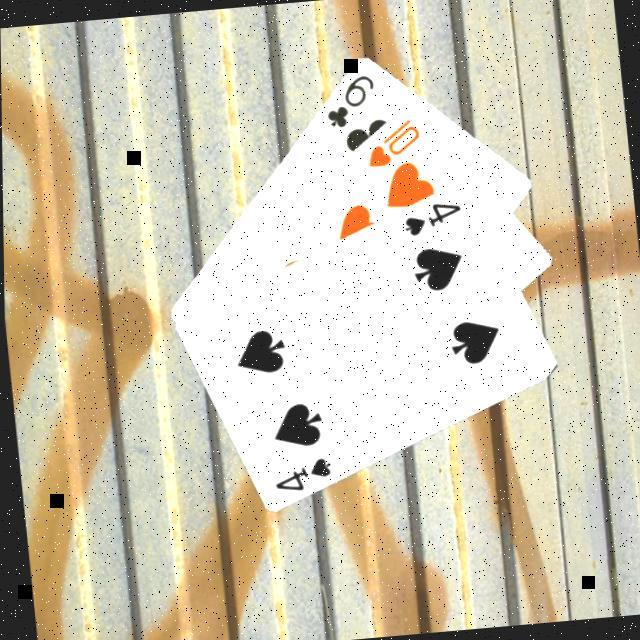10H: (361, 114, 426, 171)
4S: (399, 197, 467, 240), (268, 453, 336, 496)
6C: (319, 70, 382, 133)
